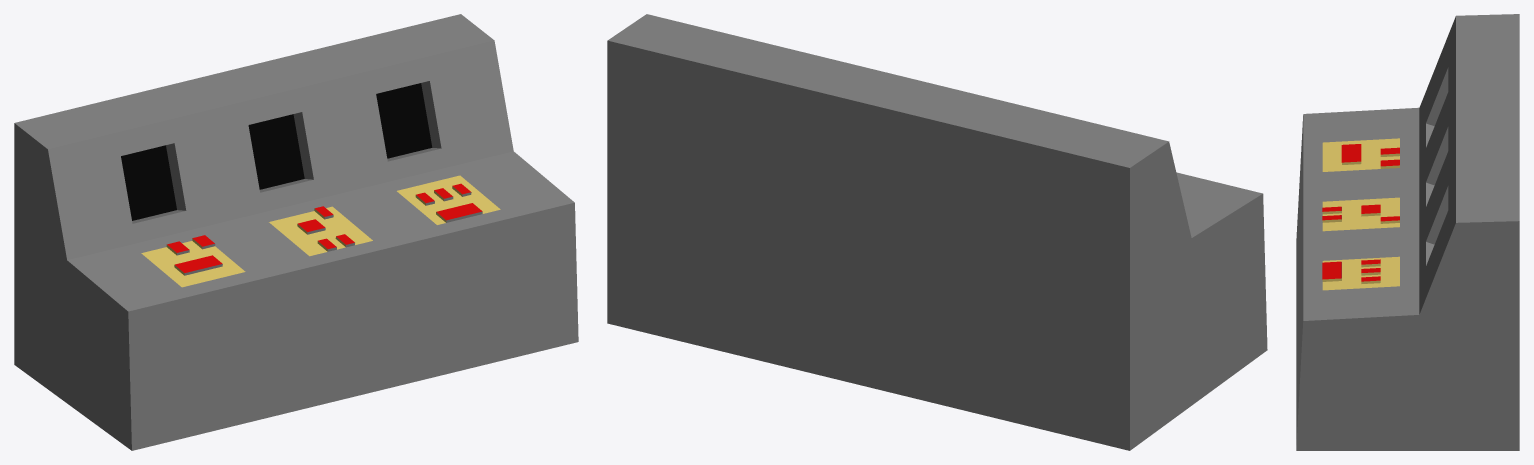
File: ComputerConsole.fbx
3 views of the same model, side by side, from view 1: azimuth 30°, elevation 25°; view 2: azimuth 150°, elevation 25°; view 3: azimuth 270°, elevation 25° (orthographic). The views are drawn at different scales.
Visible parts, largest first — view 1: ComputerUnit; view 2: ComputerUnit; view 3: ComputerUnit.
Part boxes in pixels (left/top/right/bottom): ComputerUnit: left=14, top=14, right=578, bottom=450; ComputerUnit: left=607, top=14, right=1267, bottom=450; ComputerUnit: left=1296, top=14, right=1519, bottom=450.
Size of the model in its own units: 337 by 174 by 154.
